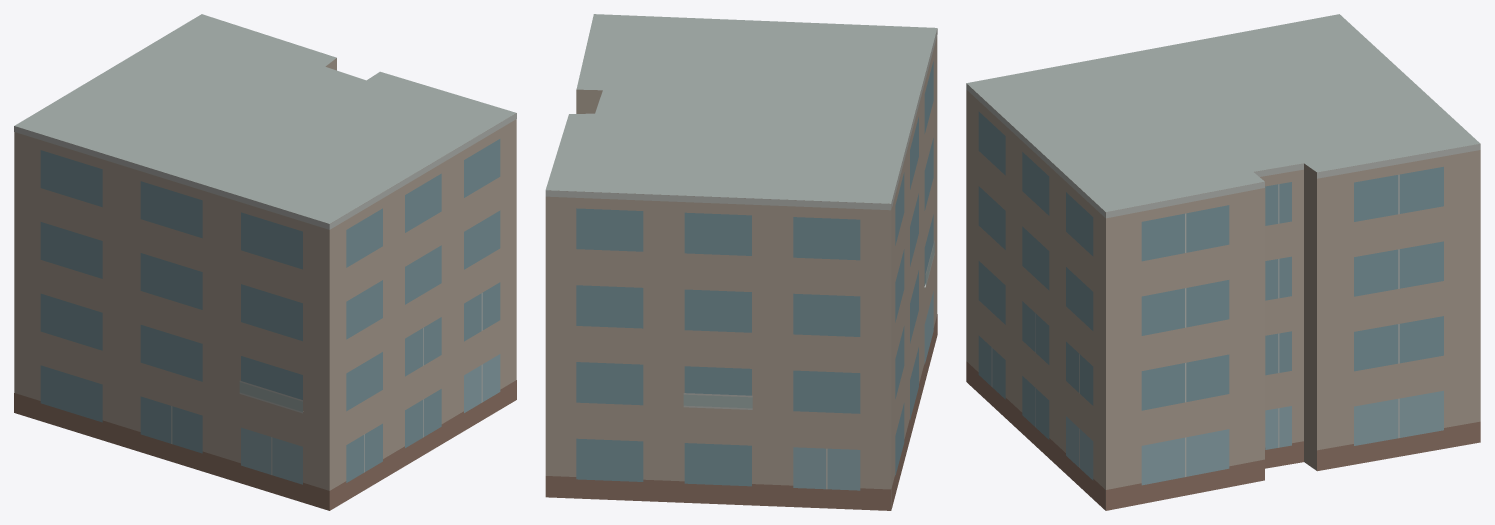
The model's file is survey-upis-32988924.glb.
The picture shows the model from 3 angles, left to right: view 1: azimuth 30°, elevation 25°; view 2: azimuth 150°, elevation 25°; view 3: azimuth 270°, elevation 25°; orthographic projection. The views are drawn at different scales.
Visible parts, largest first — view 1: survey-upis-32988924.tmp; view 2: survey-upis-32988924.tmp; view 3: survey-upis-32988924.tmp.
Part boxes in pixels (box(x1,y1,x2,y2)): survey-upis-32988924.tmp: box(14, 14, 516, 510); survey-upis-32988924.tmp: box(545, 14, 937, 510); survey-upis-32988924.tmp: box(966, 14, 1480, 510).
Bounding box in the file's own units: 16.66 × 11.7 × 18.27.
